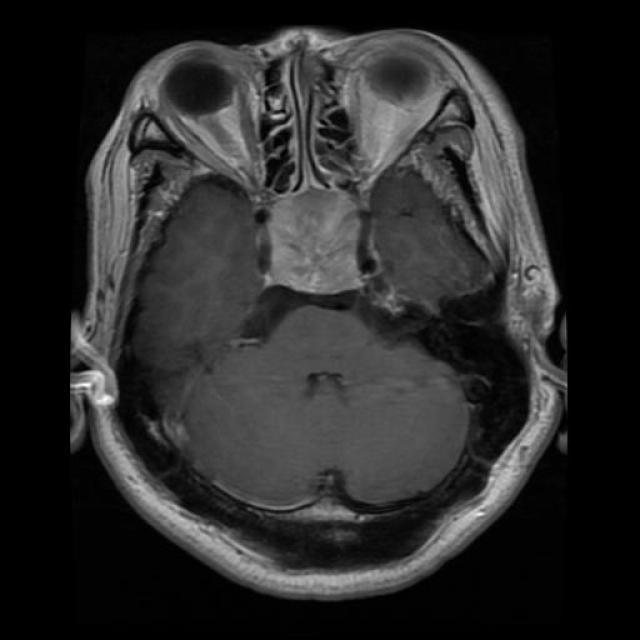pituitary: (262, 193, 382, 317)
